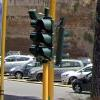traffic lights: (36, 16, 55, 63)
